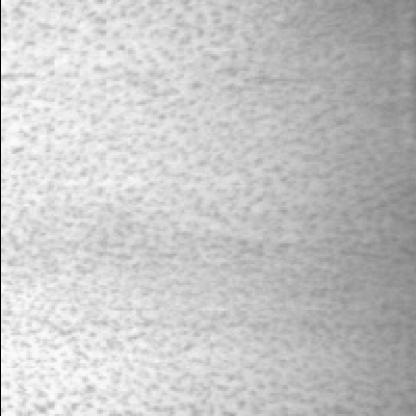pitted_surface: (0, 4, 404, 408)
